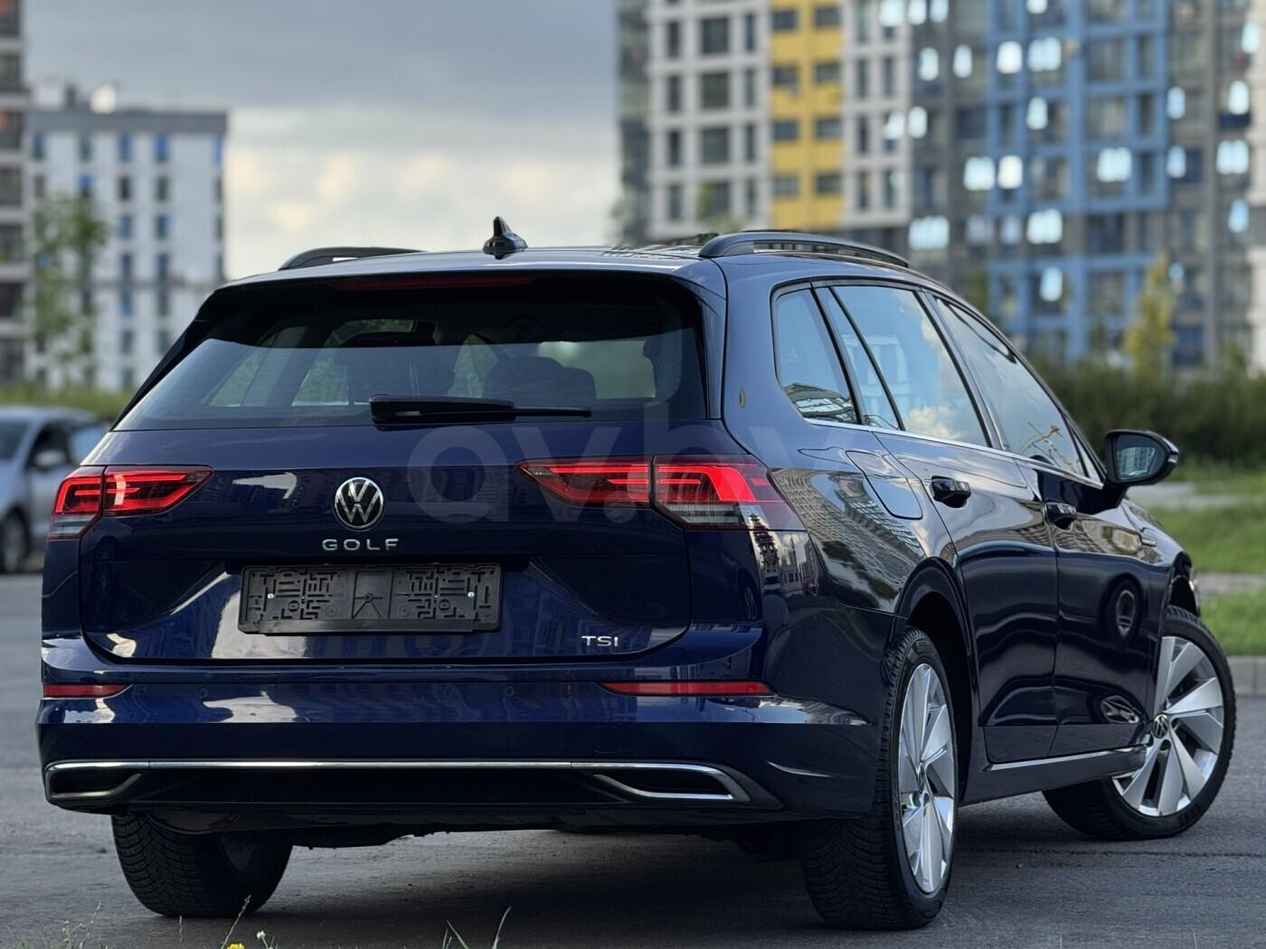Golf_2019: (34, 229, 1240, 936)
